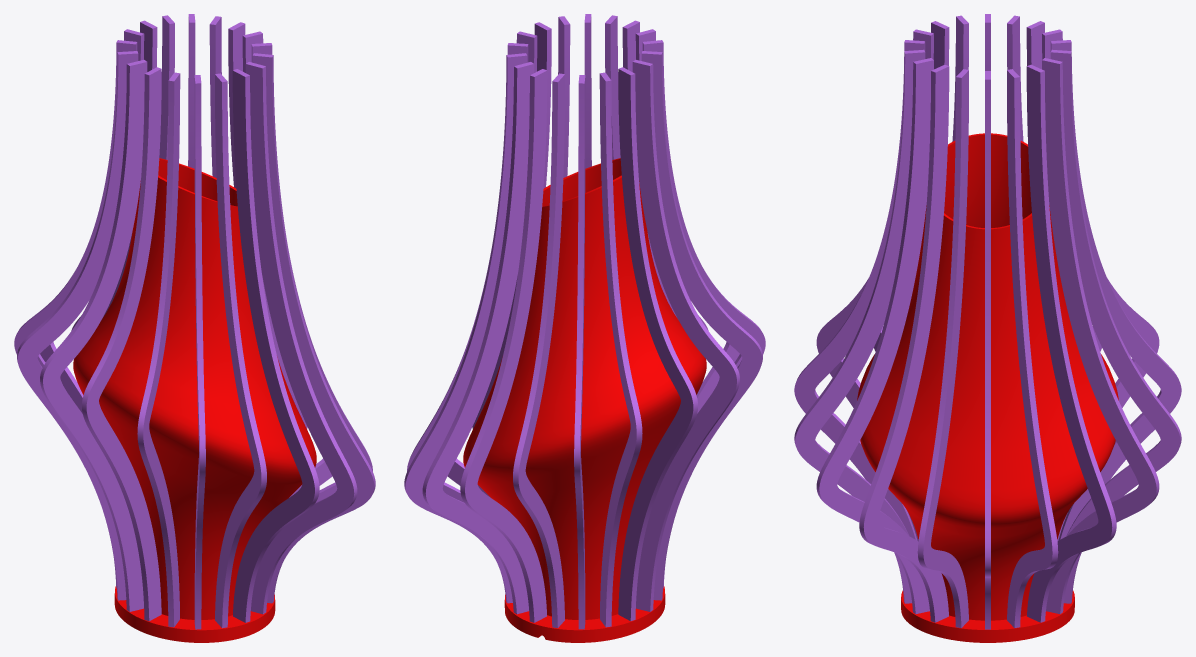
Rendered from lampara.glb.
The picture shows the model from 3 angles, left to right: view 1: azimuth 30°, elevation 25°; view 2: azimuth 150°, elevation 25°; view 3: azimuth 270°, elevation 25°; orthographic projection.
Bounding box in the file's own units: 0.1761 × 0.3061 × 0.1909.
